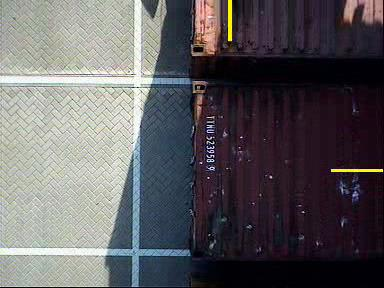groundmarker_2: (1, 124, 128, 193)
